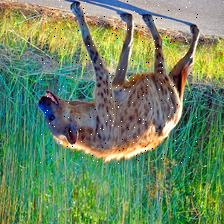hyena: (39, 0, 199, 164)
